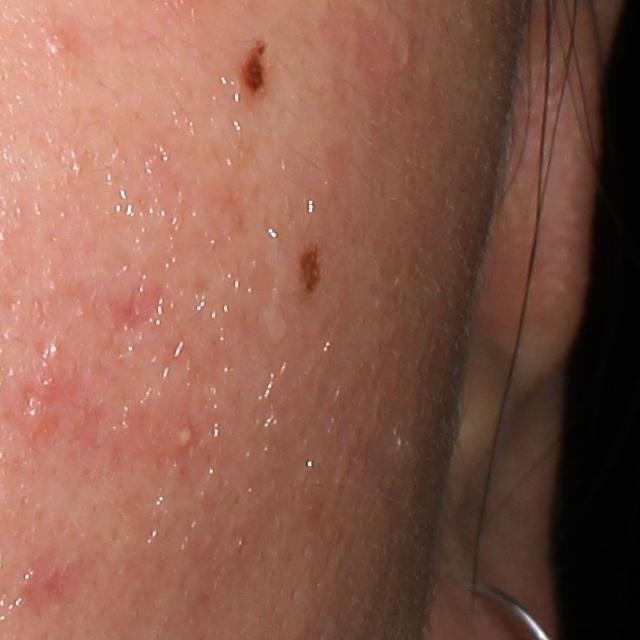atrophic_scar: (104, 284, 160, 334)
nevus: (237, 36, 273, 99), (297, 242, 329, 296)
pustule: (169, 418, 201, 451)
